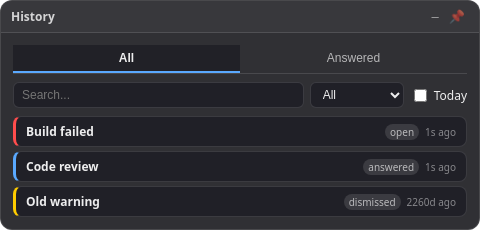
Test: HistoryWidget › filters by text search
The width and height of the screenshot is (497, 247).
Expected: the text "Build failed" is shown, x1=26 y1=123 x2=94 y2=140
Type "review" into the field with placeholder "Search...". click: (158, 95)
box: x1=13 y1=82 x2=304 y2=108
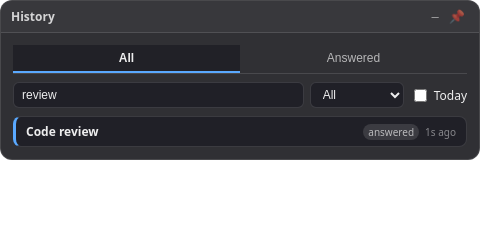
Expected: the text "Code review" is shown, x1=26 y1=123 x2=99 y2=140
Result: the text "Build failed" is gone
